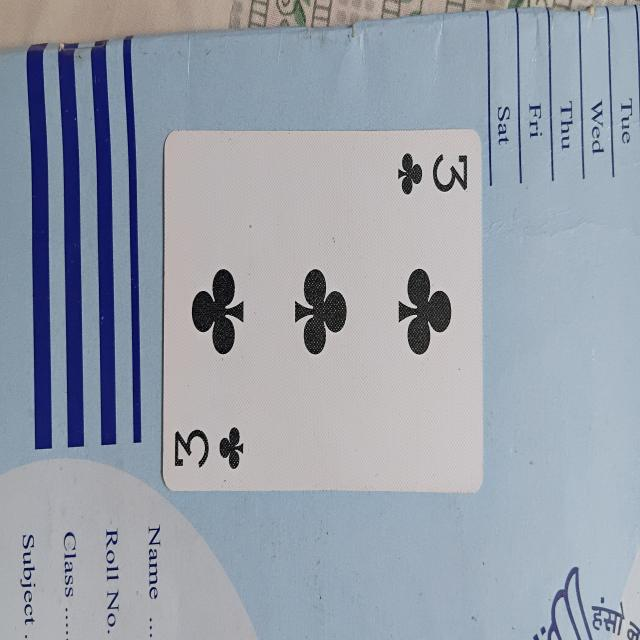3C: (165, 132, 483, 494)
